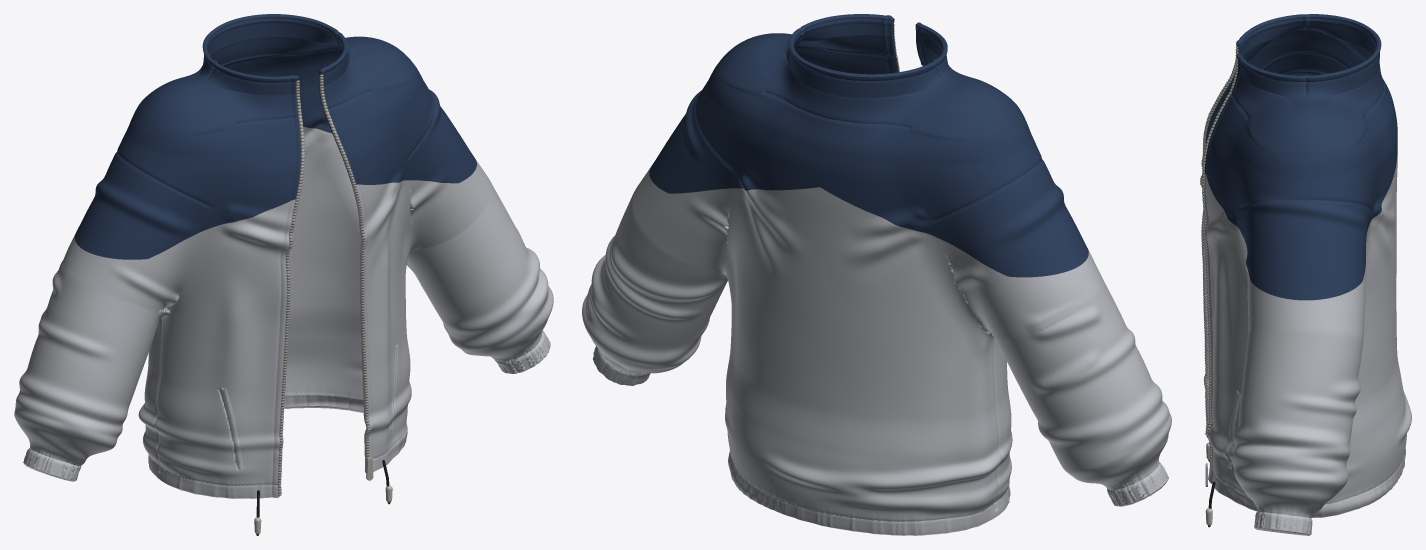
The model's file is 07_cortavientos_abierta.glb.
3 views of the same model, side by side, from view 1: azimuth 30°, elevation 25°; view 2: azimuth 150°, elevation 25°; view 3: azimuth 270°, elevation 25° (orthographic). The views are drawn at different scales.
Parts seen in each view (by area): view 1: body, secondary, zipper; view 2: body, secondary; view 3: body, secondary, zipper.
Boxes of the visible parts, x1,y1,x2,y2 form: body: [14, 127, 553, 498]; secondary: [74, 14, 476, 259]; zipper: [277, 74, 373, 495]; body: [582, 167, 1171, 535]; secondary: [649, 14, 1088, 277]; body: [1203, 145, 1411, 535]; secondary: [1204, 14, 1397, 300]; zipper: [1200, 46, 1238, 486].
Bounding box in the file's own units: 1.02 × 0.8174 × 0.3477.
